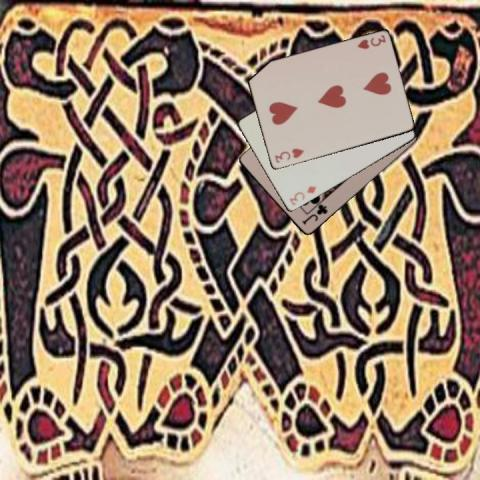3d: (286, 183, 317, 207)
3h: (272, 145, 306, 165), (354, 32, 387, 51)
Jc: (299, 202, 329, 227)
